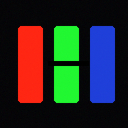3 line_h: (48, 61, 88, 65)
